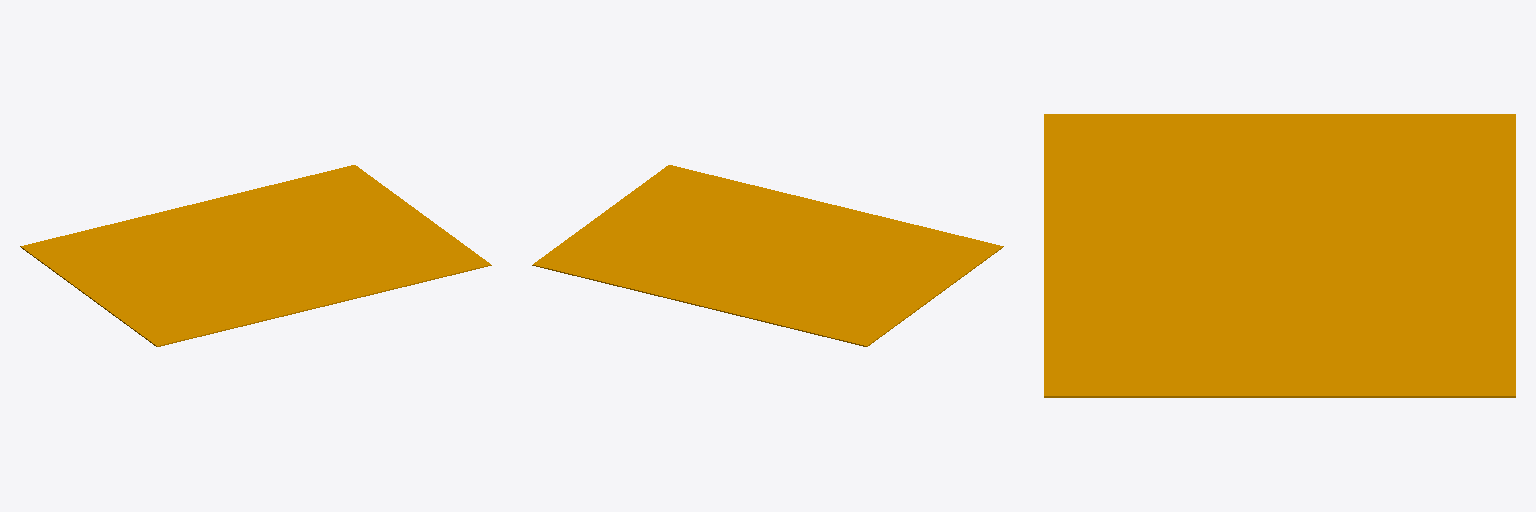
The robot description file, URDF, robot "workspace":
<?xml version="1.0" ?>
<robot name="workspace">
  <link name="workspace">
    <contact>
      <lateral_friction value="0.1"/>
    </contact>
    <inertial>
       <mass value="10.0"/>
       <inertia ixx="1" ixy="0" ixz="0" iyy="1" iyz="0" izz="1"/>
       <origin rpy="0 -0 0" xyz="0 0 0"/>
    </inertial>
    <visual>
      <origin rpy="0 0 0" xyz="0 0.0 0.0"/>
      <geometry>
				<box size="0.297 0.21 0.001"/>
      </geometry>
    </visual>
    <collision>
      <origin rpy="0 0 0" xyz="0 0.0 0.0"/>
      <geometry>
	 	    <box size="0.297 0.21 0.001"/>
      </geometry>
    </collision>
  </link>
</robot>

--- What the picture shows (computed from the rendered views, not written in the file) ---
The picture shows the robot from 3 angles, left to right: view 1: azimuth 30°, elevation 25°; view 2: azimuth 150°, elevation 25°; view 3: azimuth 270°, elevation 25°; orthographic projection.
Robot: workspace — 1 links, 0 joints (none); root link workspace; default pose: all joints at 0.
Visible links, largest first — view 1: workspace; view 2: workspace; view 3: workspace.
Link boxes in pixels (bbox=[...]): workspace: bbox=[20, 165, 491, 346]; workspace: bbox=[532, 165, 1003, 346]; workspace: bbox=[1044, 114, 1515, 397].
Bounding box of the posed robot: 0.297 × 0.21 × 0.001 m (x, y, z).
Geometry: primitives only (box / cylinder / sphere), no mesh files.
